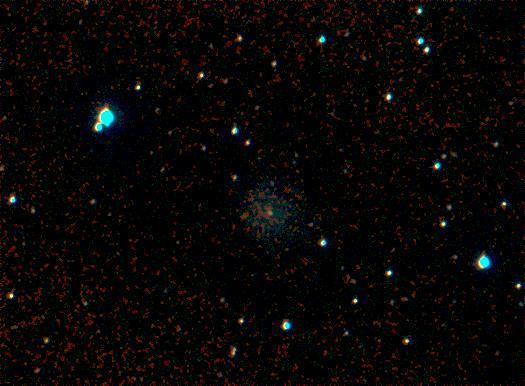star: (229, 201, 259, 231)
